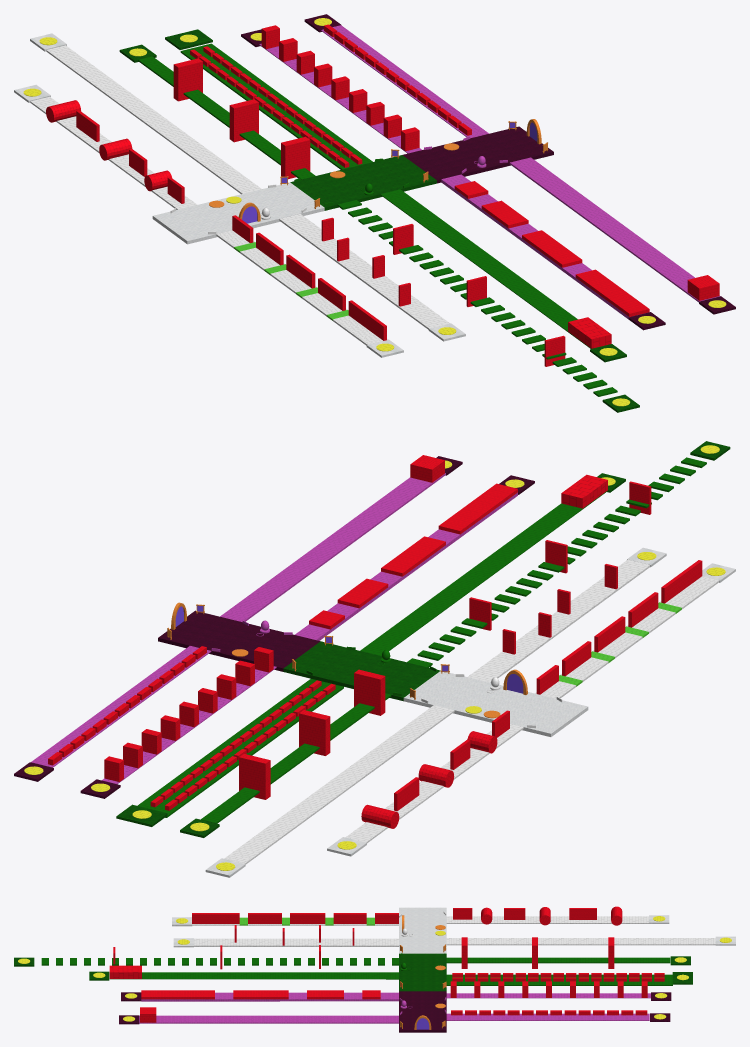
File: map2.fbx
3 renders of one model, top to bottom at view 1: azimuth 30°, elevation 25°; view 2: azimuth 150°, elevation 25°; view 3: azimuth 270°, elevation 25°, orthographic. The views are drawn at different scales.
Visible parts, largest first — view 1: Cube.045, Plane.035, Cube.063, Plane.046, Cube.089, Plane.054, Plane.047, Plane.056, Plane.045, Plane.030, Plane.043, Plane.044 (+13 smaller); view 2: Cube.045, Plane.035, Plane.046, Plane.054, Cube.063, Plane.047, Cube.089, Plane.045, Plane.056, Plane.043, Plane.030, Plane.044 (+13 smaller); view 3: Plane.046, Cube.045, Plane.054, Plane.035, Plane.013, Plane.056, Plane.030, Cube.089, Cube.063, Plane.044, Plane.043, Plane.045 (+14 smaller).
Part boxes in pixels (<box>): Cube.045: <box>152,182,324,244</box>; Plane.035: <box>46,45,261,194</box>; Cube.063: <box>403,126,553,183</box>; Plane.046: <box>509,157,720,302</box>; Cube.089: <box>290,155,436,210</box>; Plane.054: <box>380,189,611,348</box>; Plane.047: <box>261,25,419,151</box>; Plane.056: <box>454,181,649,316</box>; Plane.045: <box>337,200,617,396</box>; Plane.030: <box>279,214,449,329</box>; Plane.043: <box>180,43,372,169</box>; Plane.044: <box>190,46,362,167</box>; Cube.045: <box>403,671,588,736</box>; Plane.035: <box>224,705,454,864</box>; Plane.046: <box>220,473,445,621</box>; Plane.054: <box>360,490,607,655</box>; Cube.063: <box>158,610,320,671</box>; Plane.047: <box>104,647,273,781</box>; Cube.089: <box>283,641,440,701</box>; Plane.045: <box>407,457,706,667</box>; Plane.056: <box>309,483,517,629</box>; Plane.043: <box>137,679,343,817</box>; Plane.030: <box>468,559,650,682</box>; Plane.044: <box>150,680,335,810</box>; Plane.046: <box>139,1015,398,1023</box>; Cube.045: <box>399,907,446,953</box>; Plane.054: <box>110,972,398,979</box>; Plane.035: <box>446,938,715,945</box>; Plane.013: <box>192,913,398,923</box>; Plane.056: <box>141,990,380,999</box>; Plane.030: <box>194,938,398,946</box>; Cube.089: <box>399,953,446,991</box>; Cube.063: <box>399,991,446,1032</box>; Plane.044: <box>452,973,664,981</box>; Plane.043: <box>446,974,672,985</box>; Plane.045: <box>41,958,398,965</box>.
Bounding box in the file's own units: 12158 × 1157 × 30291.
11 materials, 11 textured.
